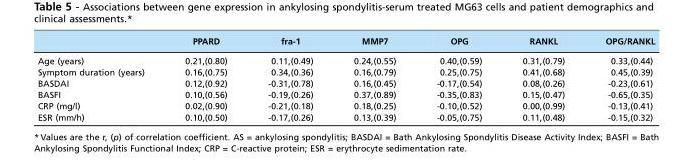table: (36, 36, 654, 121)
table column: (36, 36, 164, 121), (246, 36, 332, 121), (415, 36, 501, 121), (332, 36, 415, 121), (501, 36, 584, 121), (164, 36, 246, 121), (584, 36, 654, 121)
table column header: (36, 36, 654, 50)
table row: (36, 50, 654, 66), (36, 36, 654, 50), (36, 88, 654, 100), (36, 66, 654, 77), (36, 77, 654, 88), (36, 100, 654, 111), (36, 111, 654, 121)
